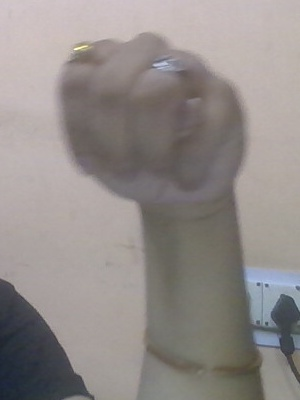M: (47, 17, 273, 273)
